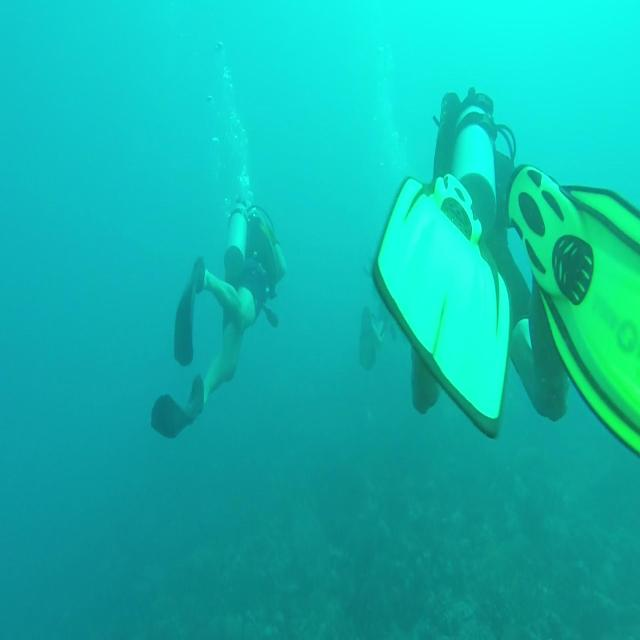human: (364, 87, 638, 456), (150, 197, 286, 439)
